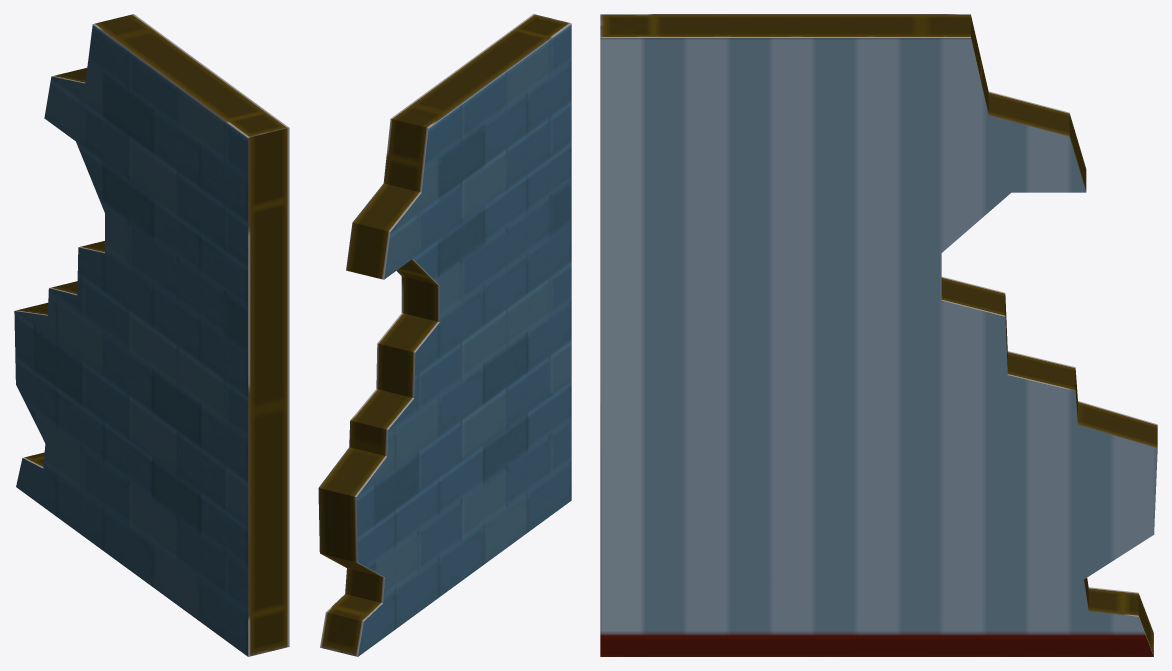
Rendered from Wall_Broken_R_07.fbx.
3 renders of one model, left to right at view 1: azimuth 30°, elevation 25°; view 2: azimuth 150°, elevation 25°; view 3: azimuth 270°, elevation 25°, orthographic. The views are drawn at different scales.
Parts seen in each view (by area): view 1: Wall_Broken_R_07; view 2: Wall_Broken_R_07; view 3: Wall_Broken_R_07.
Boxes of the visible parts, box(x1,y1,x2,y2) form: Wall_Broken_R_07: box(14, 14, 289, 656); Wall_Broken_R_07: box(318, 14, 571, 656); Wall_Broken_R_07: box(600, 14, 1157, 656).
Size of the model in its own units: 50 by 600 by 490.
